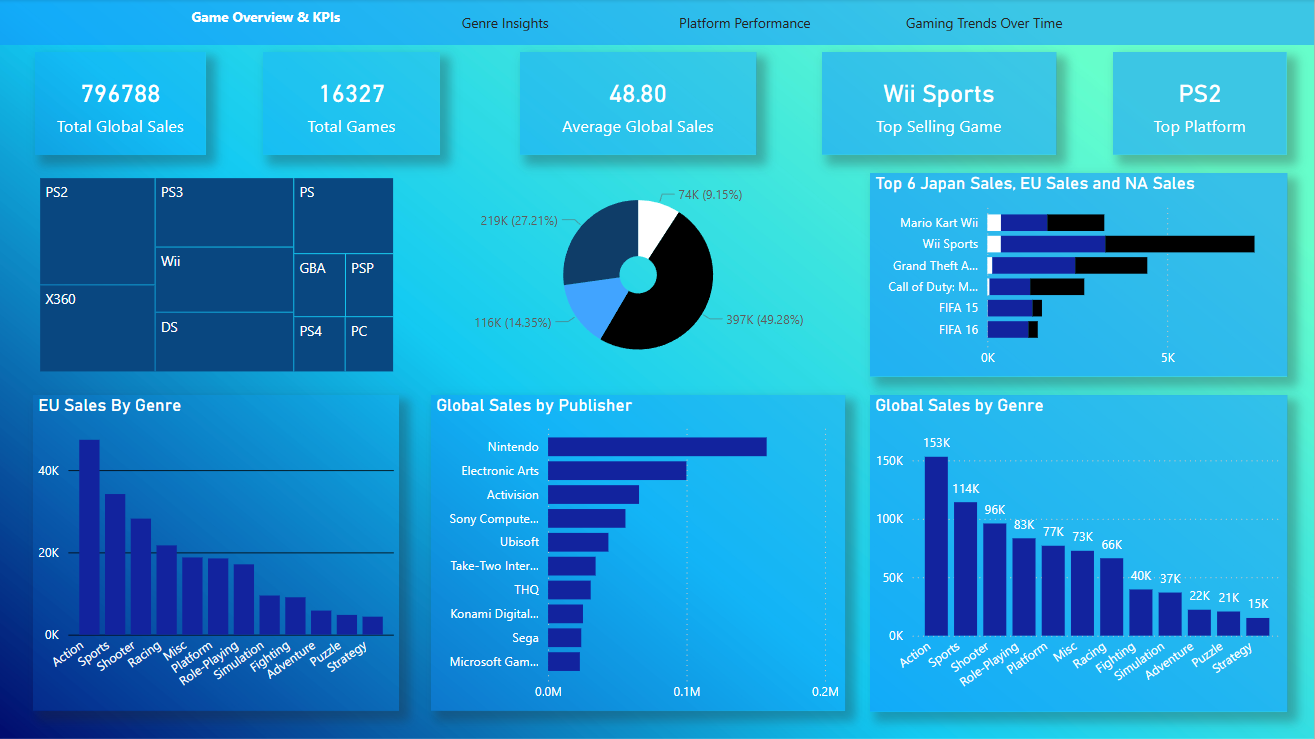

This screenshot's page, from the dashboard's own definition file:
{"tool":"powerbi","page":{"name":"Game Overview & KPIs","canvas":[1280,720],"ordinal":0},"visuals":[{"type":"shape","box":[0,0,1280,44.7],"z":0},{"type":"lineStackedColumnComboChart","title":"EU Sales By Genre","fields":{"Y":["Sum(video games sales.EU_Sales)"],"Category":["video games sales.Genre"]},"box":[34,385.2,356,307.4],"z":1000},{"type":"card","fields":{"Values":["Y-akse.Total Global Sales"]},"box":[36,51.6,166.3,100.2],"z":2000},{"type":"card","fields":{"Values":["Y-akse.Total Games"]},"box":[257.8,51.6,172.2,100.2],"z":3000},{"type":"card","fields":{"Values":["Y-akse.Average Global Sales"]},"box":[507.7,51.6,229.5,100.2],"z":4000},{"type":"card","fields":{"Values":["Y-akse.Top Selling Game"]},"box":[801.5,51.6,227.6,100.2],"z":5000},{"type":"card","fields":{"Values":["Y-akse.Top Platform"]},"box":[1084.5,51.6,169.2,100.2],"z":6000},{"type":"clusteredBarChart","title":"Global Sales by Publisher","fields":{"Category":["video games sales.Publisher"],"Y":["Sum(video games sales.Global_Sales)"]},"box":[421.2,385.2,402.7,307.4],"z":7000},{"type":"columnChart","title":"Global Sales by Genre","fields":{"Category":["video games sales.Genre"],"Y":["Sum(video games sales.Global_Sales)"]},"box":[848.1,385.2,405.6,308.3],"z":8000},{"type":"donutChart","fields":{"Y":["Sum(video games sales.Other_Sales)","Sum(video games sales.NA_Sales)","Sum(video games sales.JP_Sales)","Sum(video games sales.EU_Sales)"]},"box":[421.2,169.2,402.7,198.4],"z":9000},{"type":"treemap","fields":{"Group":["video games sales.Platform"],"Values":["Sum(video games sales.Global_Sales)"]},"box":[36,169.2,354,198.4],"z":10000},{"type":"barChart","title":"Top 6 Japan Sales, EU Sales and  NA Sales ","fields":{"Y":["Sum(video games sales.JP_Sales)","Sum(video games sales.EU_Sales)","Sum(video games sales.NA_Sales)"],"Category":["video games sales.Name"]},"box":[848.1,169.2,405.6,198.4],"z":11000},{"type":"pageNavigator","box":[148.8,6.8,923,31.1],"z":12000}]}

Visuals, with their boxes in screenshot pixels (x1, y1, x2, y2), scaled from the page's 1280x720 canvas onto the 1315x739 screenshot:
shape: [left=0, top=0, right=1314, bottom=46]
"EU Sales By Genre" lineStackedColumnComboChart: [left=35, top=395, right=401, bottom=711]
card - Y-akse.Total Global Sales: [left=37, top=53, right=208, bottom=156]
card - Y-akse.Total Games: [left=265, top=53, right=442, bottom=156]
card - Y-akse.Average Global Sales: [left=522, top=53, right=757, bottom=156]
card - Y-akse.Top Selling Game: [left=823, top=53, right=1057, bottom=156]
card - Y-akse.Top Platform: [left=1114, top=53, right=1288, bottom=156]
"Global Sales by Publisher" clusteredBarChart: [left=433, top=395, right=846, bottom=711]
"Global Sales by Genre" columnChart: [left=871, top=395, right=1288, bottom=712]
donutChart - Sum(video games sales.Other_Sales) x Sum(video games sales.NA_Sales): [left=433, top=174, right=846, bottom=377]
treemap - video games sales.Platform x Sum(video games sales.Global_Sales): [left=37, top=174, right=401, bottom=377]
"Top 6 Japan Sales, EU Sales and  NA Sales " barChart: [left=871, top=174, right=1288, bottom=377]
pageNavigator: [left=153, top=7, right=1101, bottom=39]
